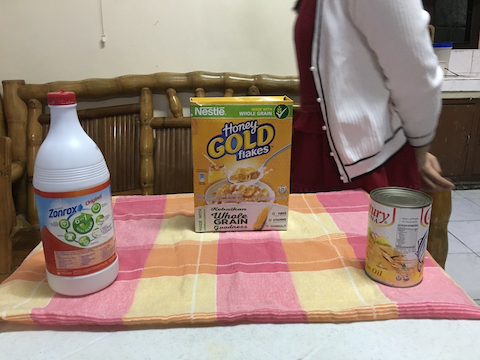bottle: (29, 85, 122, 300)
box: (186, 92, 296, 236)
can: (362, 184, 437, 290)
